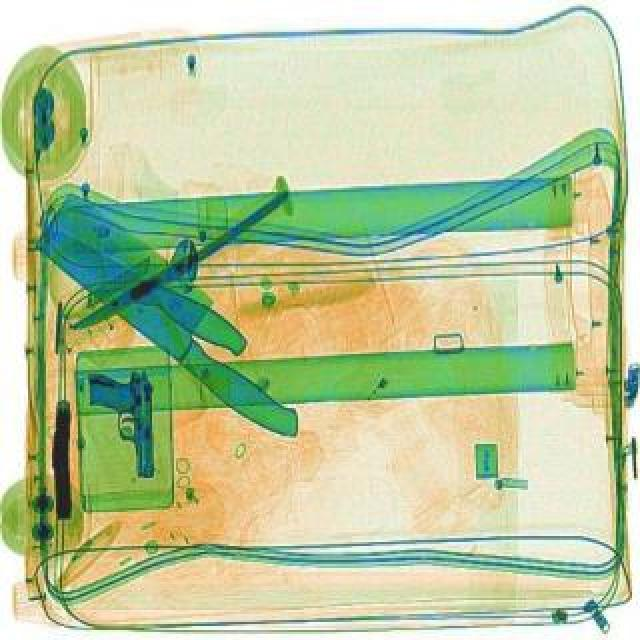gun: (86, 368, 154, 476), (48, 398, 72, 518)
knife: (20, 184, 336, 448), (22, 206, 254, 358), (64, 190, 296, 336)
